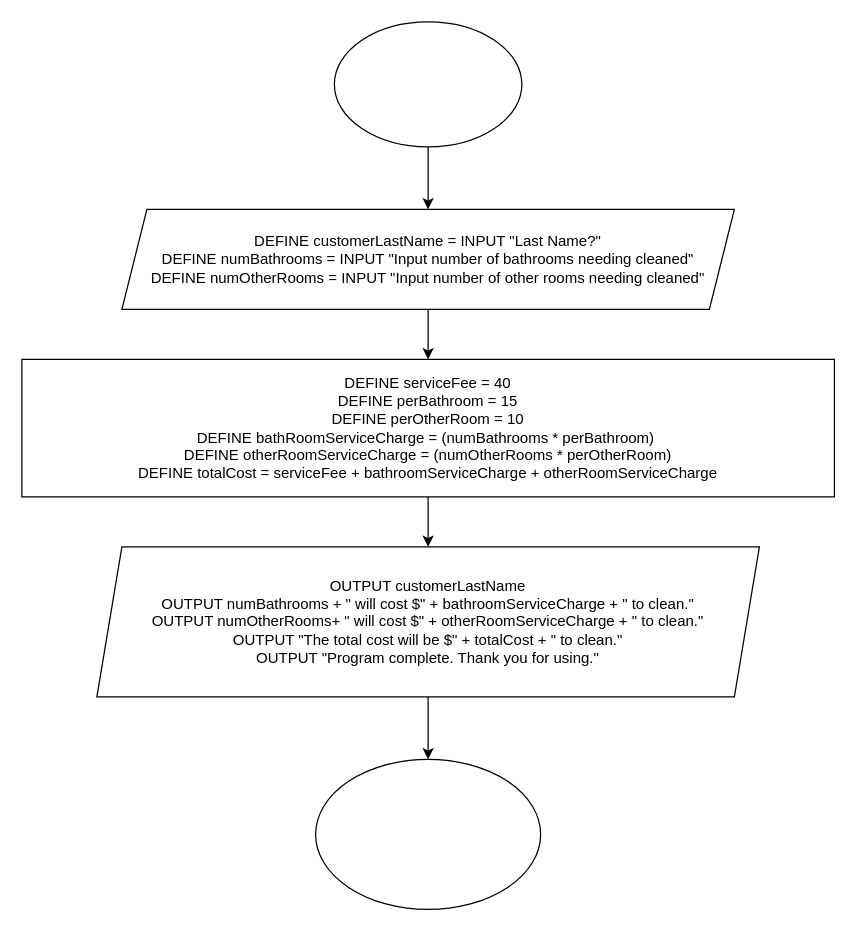
Some shapes in this 856 by 931 pixel diagram are drawn without their labels. Each missing label, with the box of its shape:
Start: (333, 21, 522, 147)
Stop: (314, 758, 541, 909)
